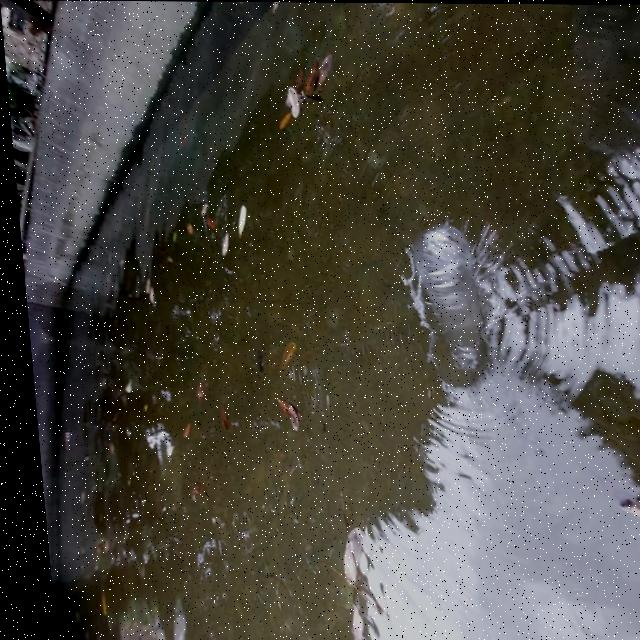leaf: (258, 41, 349, 149), (268, 388, 303, 432), (191, 216, 223, 246), (222, 200, 250, 231)
waterbottle: (396, 223, 503, 378)
